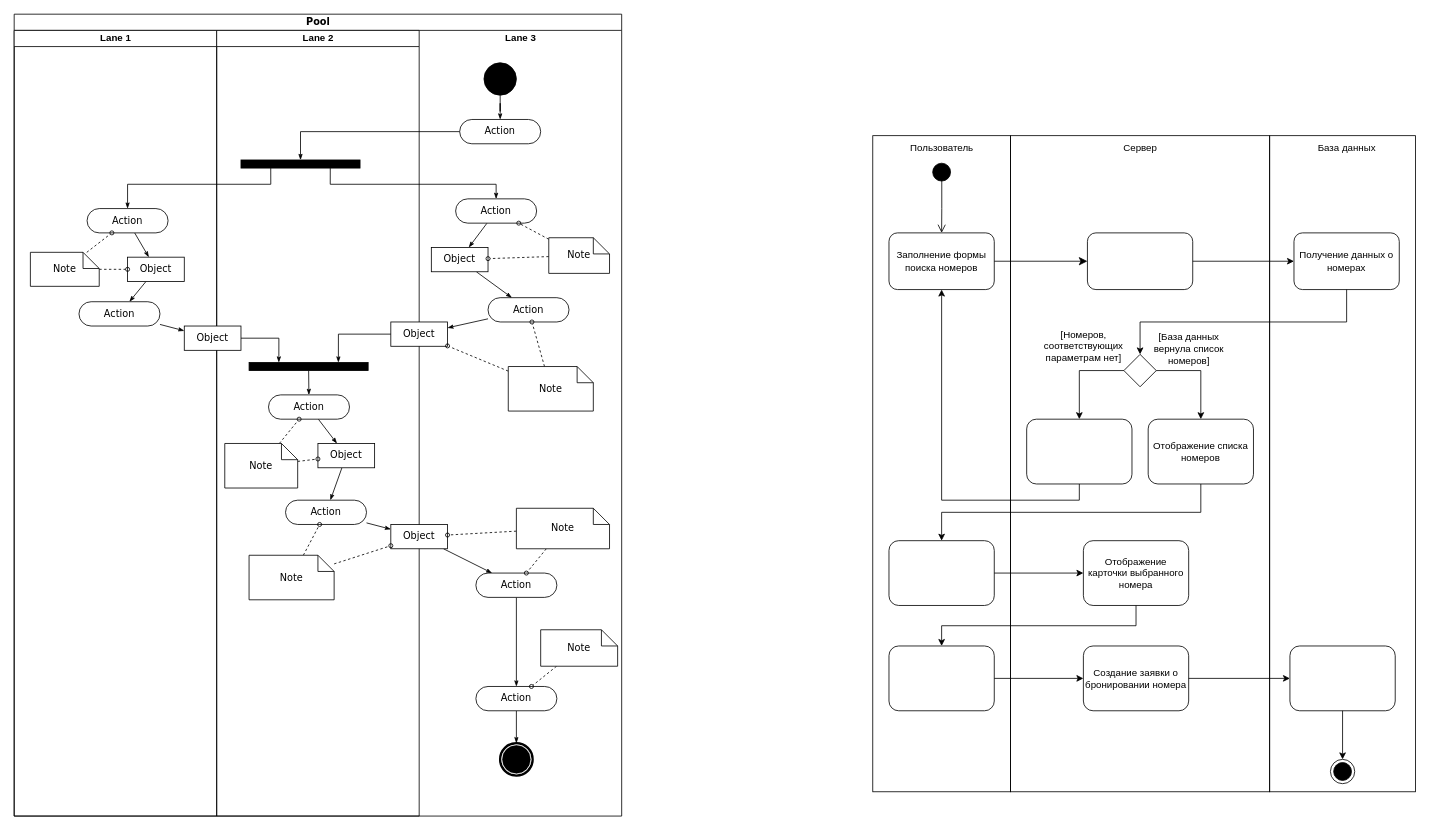
The diagram is 1430 pixels wide and 830 high, and some of its shapes have lost their labels. Here are the shapes that lost their labels. From the top down, the centre of each, then its label:
point (1140, 261): Обработка запроса и запуск метода для получения данных о номерах
point (1079, 451): Отображение сообщения, что номеров, соответствующих параметрам нет
point (941, 572): Выбор понравившегося номера
point (941, 678): Нажатие кнопки "Забронировать"
point (1342, 678): Запись данных о бронировании
